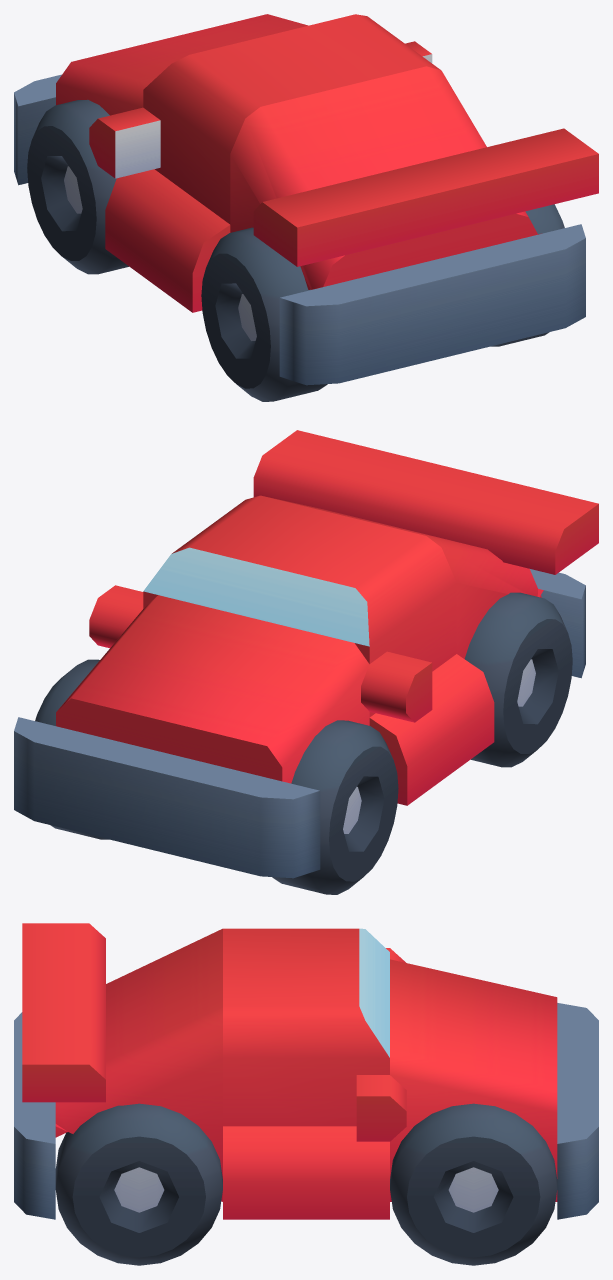
The model's file is vehicle-racer-low.fbx.
3 renders of one model, top to bottom at view 1: azimuth 30°, elevation 25°; view 2: azimuth 150°, elevation 25°; view 3: azimuth 270°, elevation 25°, orthographic. The views are drawn at different scales.
Visible parts, largest first — view 1: vehicle-racer-low, wheel-bl, wheel-fl, wheel-br; view 2: vehicle-racer-low, wheel-bl, wheel-fl, wheel-fr; view 3: vehicle-racer-low, wheel-br, wheel-fr.
Part boxes in pixels (<box>): vehicle-racer-low: <box>14,14,598,385</box>; wheel-bl: <box>201,227,327,401</box>; wheel-fl: <box>27,99,128,274</box>; wheel-br: <box>491,204,564,346</box>; vehicle-racer-low: <box>14,430,598,878</box>; wheel-bl: <box>464,592,572,767</box>; wheel-fl: <box>272,720,398,894</box>; wheel-fr: <box>35,659,108,839</box>; vehicle-racer-low: <box>14,923,598,1219</box>; wheel-br: <box>55,1103,222,1265</box>; wheel-fr: <box>390,1103,557,1265</box>.
Bounding box in the file's own units: 52.5 × 38.75 × 87.5.
